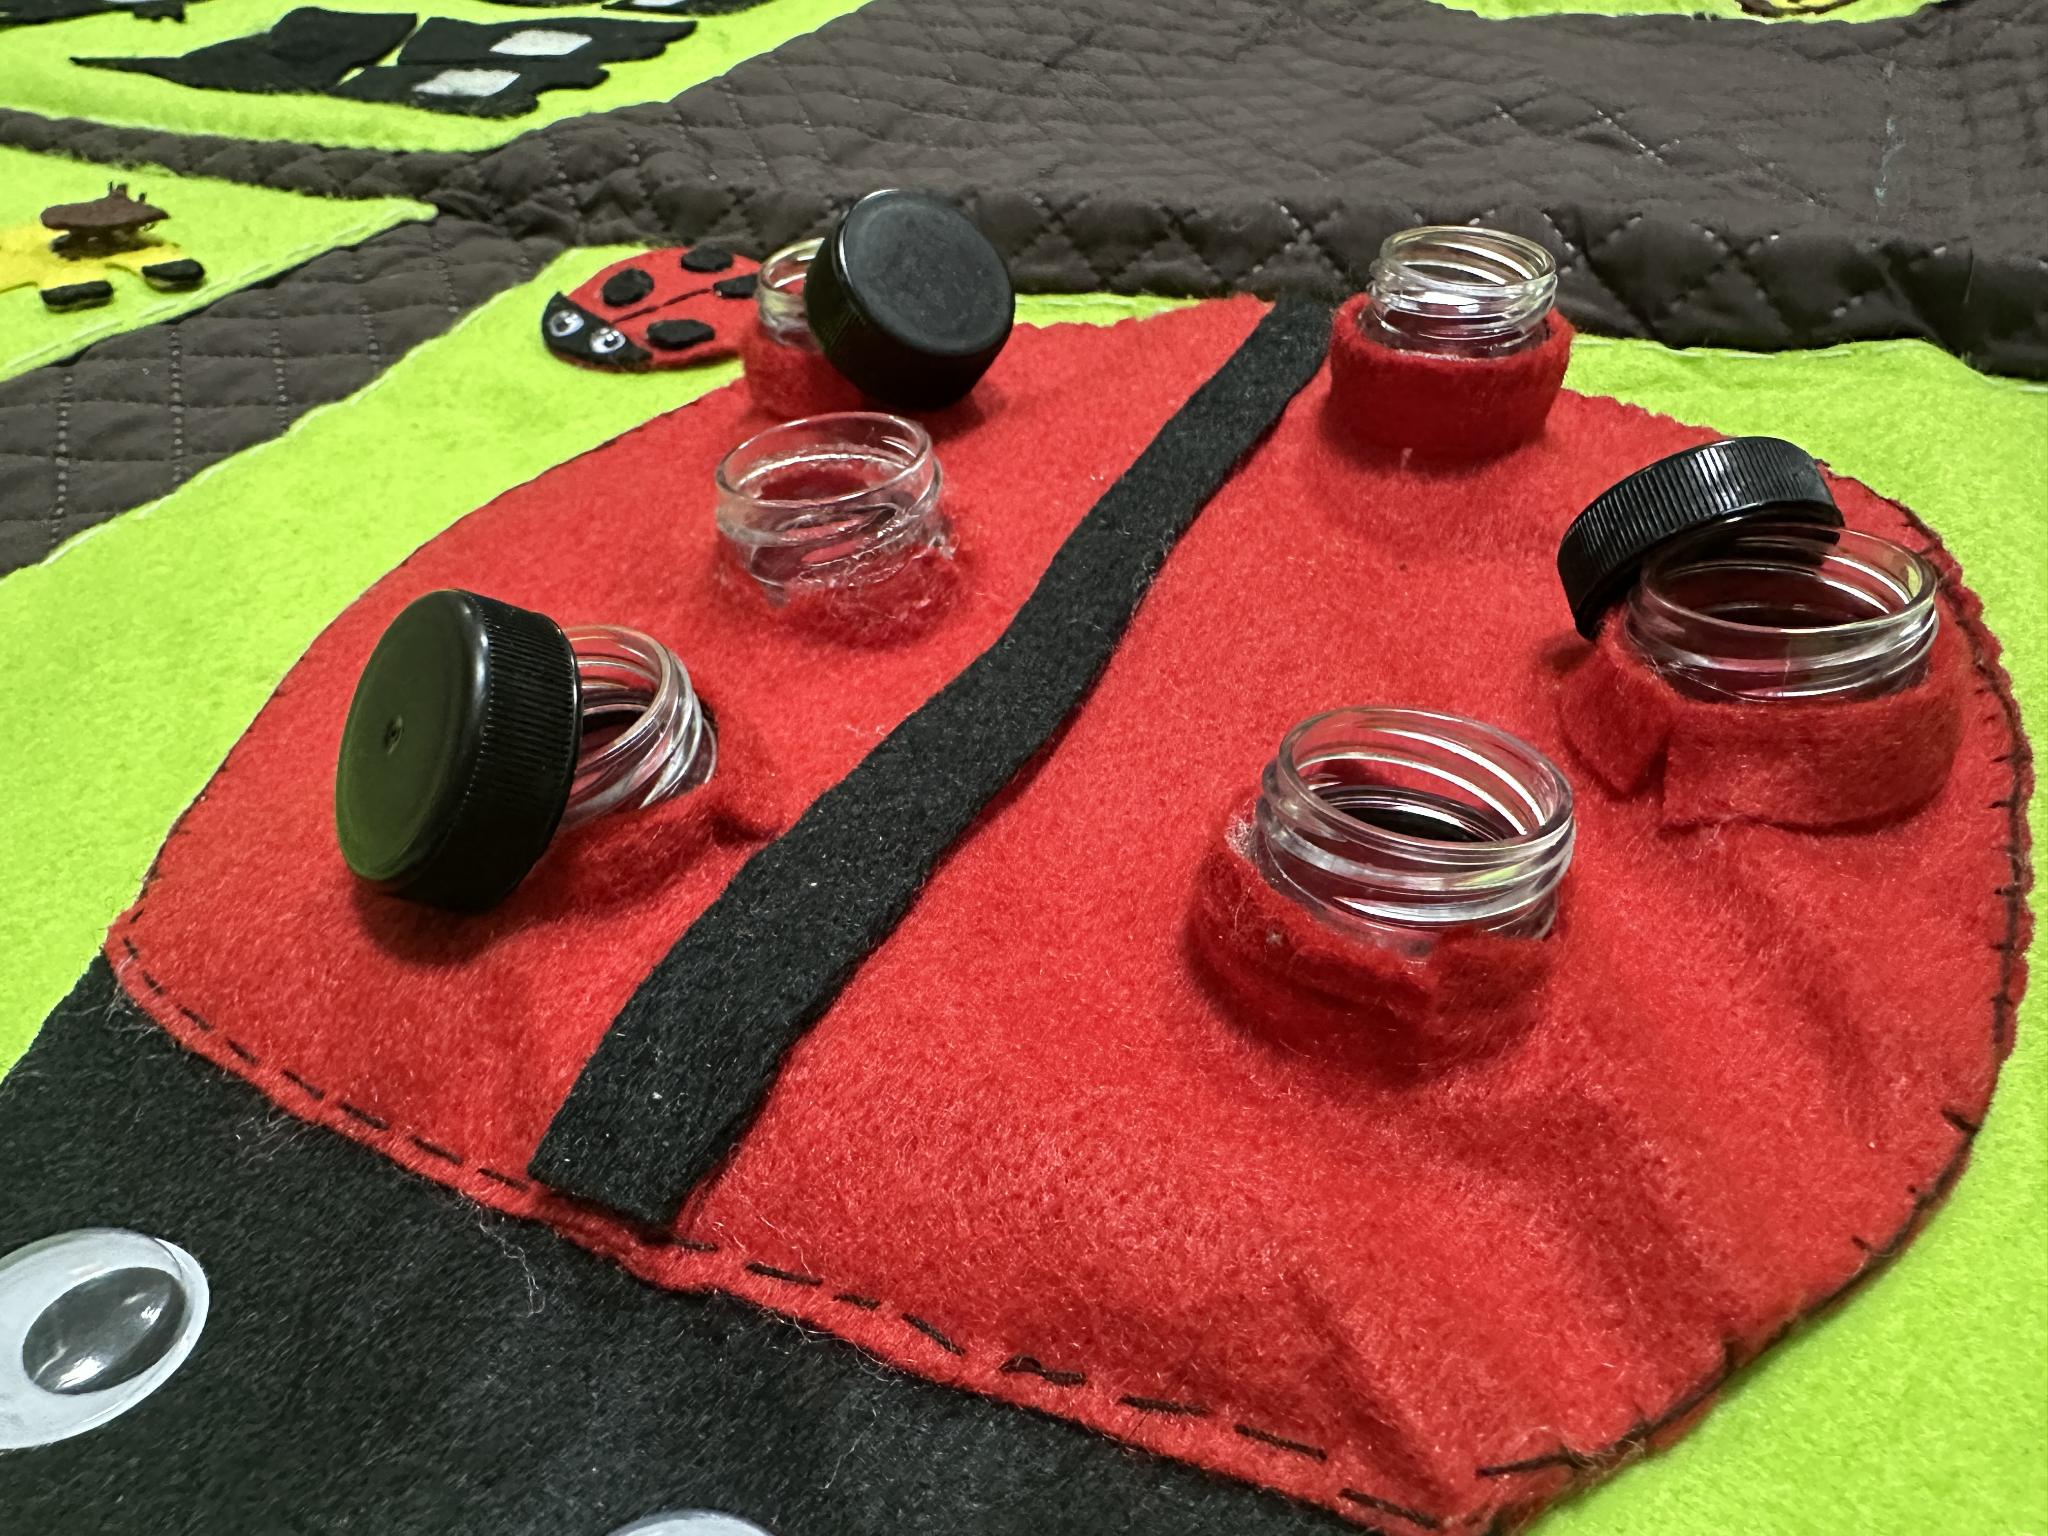cap_ng: (1542, 436, 1983, 845), (314, 578, 739, 949), (719, 184, 1034, 431)
